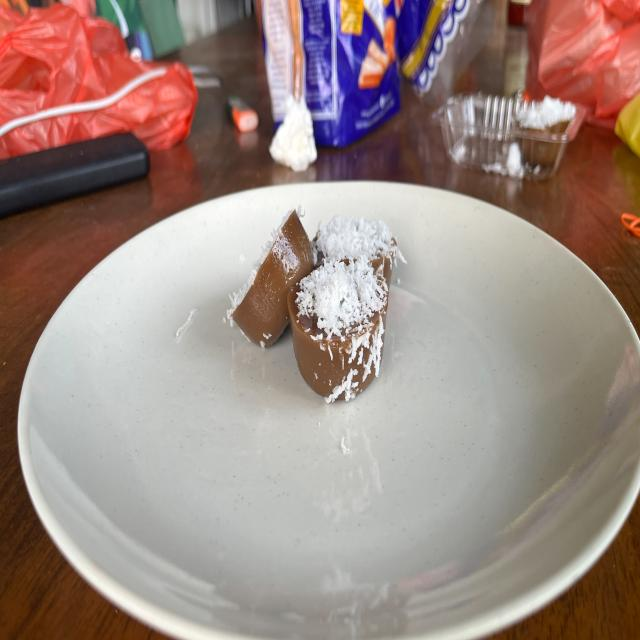Kuih lompang: (288, 260, 388, 402), (229, 211, 314, 347), (314, 216, 405, 289)
